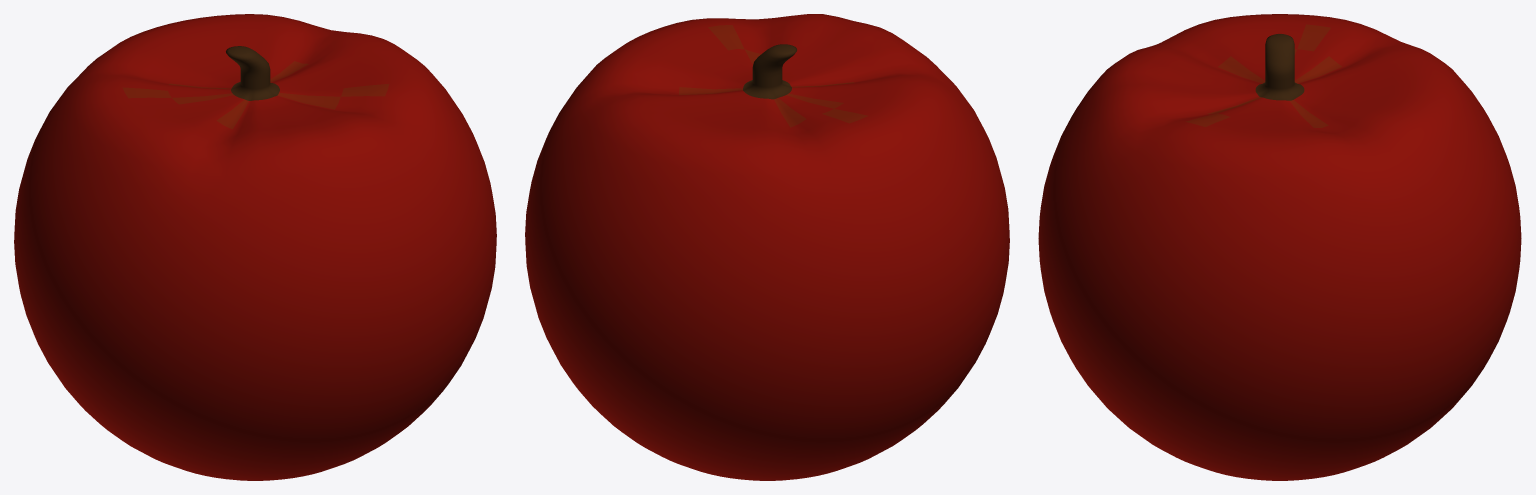
Rendered from Eple.FBX.
3 views of the same model, side by side, from view 1: azimuth 30°, elevation 25°; view 2: azimuth 150°, elevation 25°; view 3: azimuth 270°, elevation 25° (orthographic).
Parts seen in each view (by area): view 1: Sphere001; view 2: Sphere001; view 3: Sphere001.
Part boxes in pixels (<box>): Sphere001: <box>14,14,496,480</box>; Sphere001: <box>525,14,1009,480</box>; Sphere001: <box>1038,14,1521,480</box>.
Size of the model in its own units: 0.4864 by 0.46 by 0.4864.
